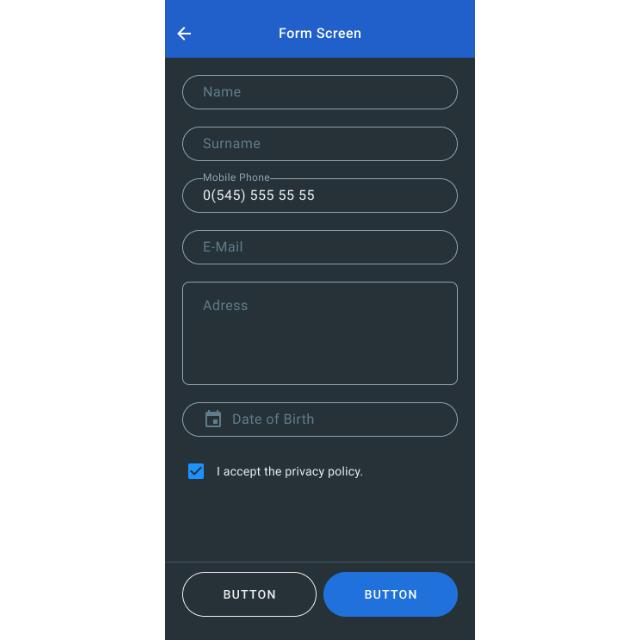QLabel: (213, 464, 364, 480), (278, 26, 362, 42), (219, 586, 277, 602), (362, 589, 418, 601)
VAppBar: (165, 0, 475, 58)
VBtn: (323, 570, 457, 620), (182, 572, 316, 618)
VCheckbox: (185, 461, 208, 483)
VFooter: (165, 562, 475, 640)
VIcon: (175, 27, 192, 41)
VInlineDatepicker: (182, 400, 458, 440)
VTextField: (182, 172, 458, 214), (180, 124, 458, 162), (183, 228, 459, 266), (182, 74, 458, 110)
VTextarea: (181, 279, 459, 387)
